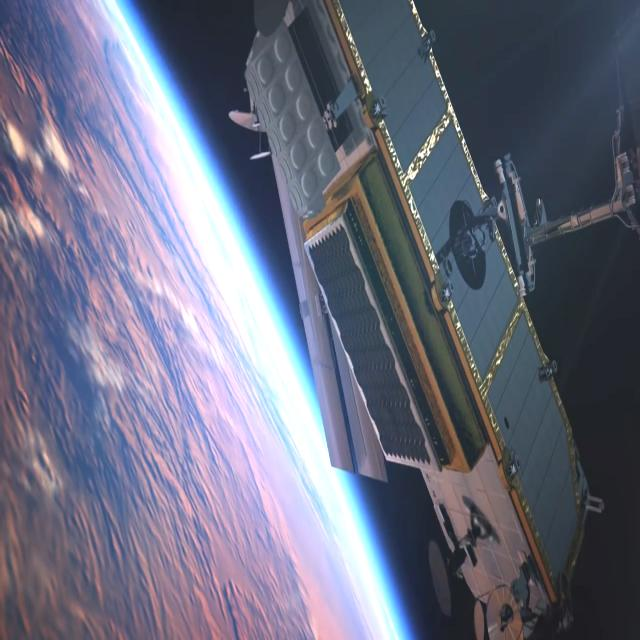satellite: (227, 0, 640, 640)
